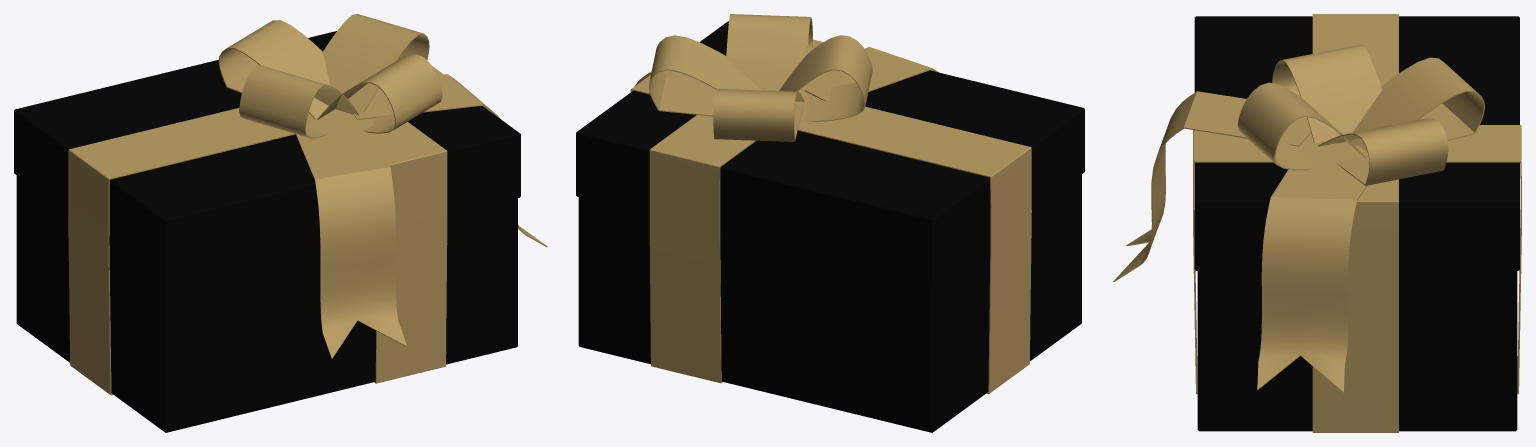
3 renders of one model, left to right at view 1: azimuth 30°, elevation 25°; view 2: azimuth 150°, elevation 25°; view 3: azimuth 270°, elevation 25°, orthographic. The views are drawn at different scales.
Visible parts, largest first — view 1: 8ff1977bc0c68f2b436c7938494e65f8b427b5ed > > root > (×2); view 2: 8ff1977bc0c68f2b436c7938494e65f8b427b5ed > > root > (×2); view 3: 8ff1977bc0c68f2b436c7938494e65f8b427b5ed > > root > (×2).
Part boxes in pixels (x1,y1,x2,y2): 8ff1977bc0c68f2b436c7938494e65f8b427b5ed > > root > (×2): (14,14,547,432); 8ff1977bc0c68f2b436c7938494e65f8b427b5ed > > root > (×2): (576,14,1084,432); 8ff1977bc0c68f2b436c7938494e65f8b427b5ed > > root > (×2): (1113,14,1521,432).
Size of the model in its own units: 0.3702 by 0.2286 by 0.2924.
